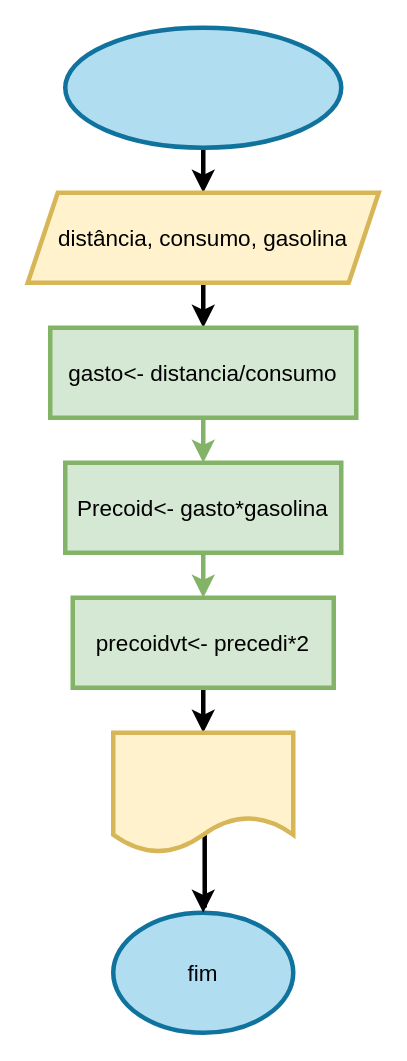
Image size: 407x1061. Some labels were removed from this diagram. Here are the shapes that lost their labels. From the top down, the box of each, then its label:
(62, 25, 343, 149): inicio
(110, 730, 295, 854): precoid precoidvt
